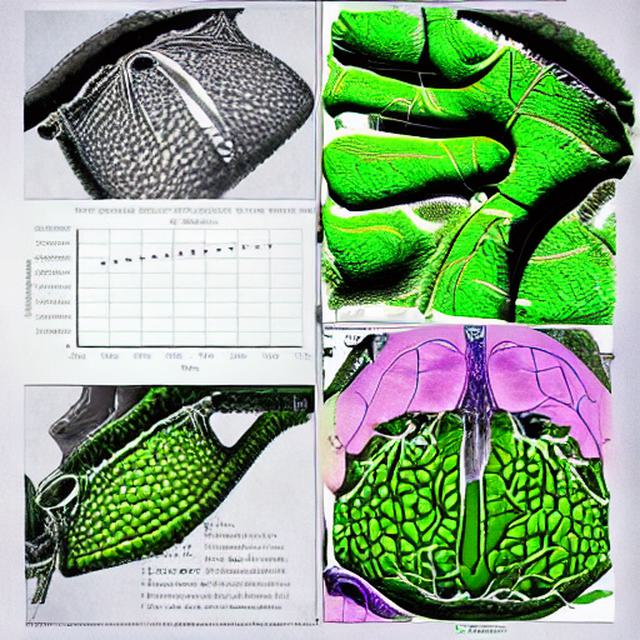Graph: (16, 201, 314, 381)
